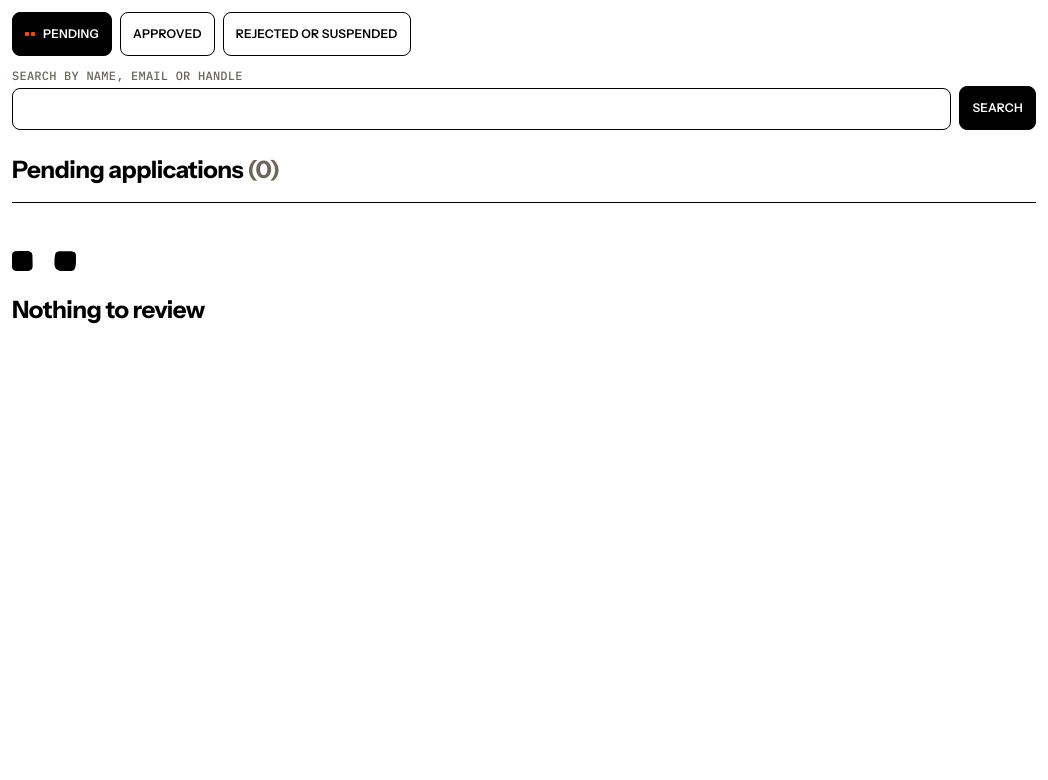
it: Admin organisers: website and social handles › shows the full website as text, a safe link to it, and all four handles (rejected)
Expected: the text "Nothing to review" is shown, [12,295,205,324]
Click the button "Rejected or suspended" at (317, 34), box [223,12,411,56]
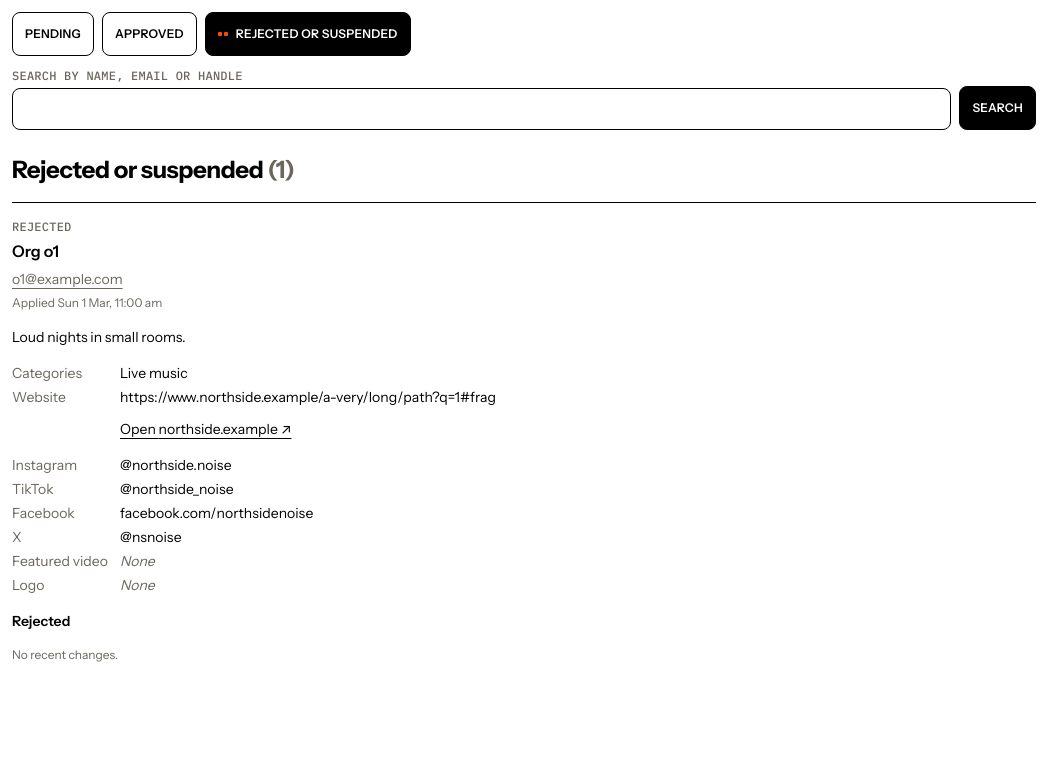
Result: the heading "Org o1" is shown at [12,241,59,261]
